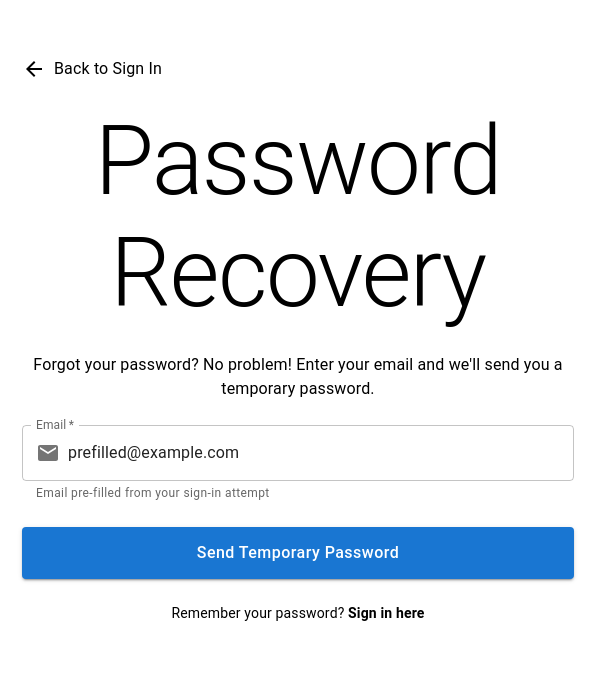
Test case: PasswordRecoveryPage › Form Submission › should submit form with pre-filled email
Click the button "Send Temporary Password" at (298, 554), box [22,528,574,580]
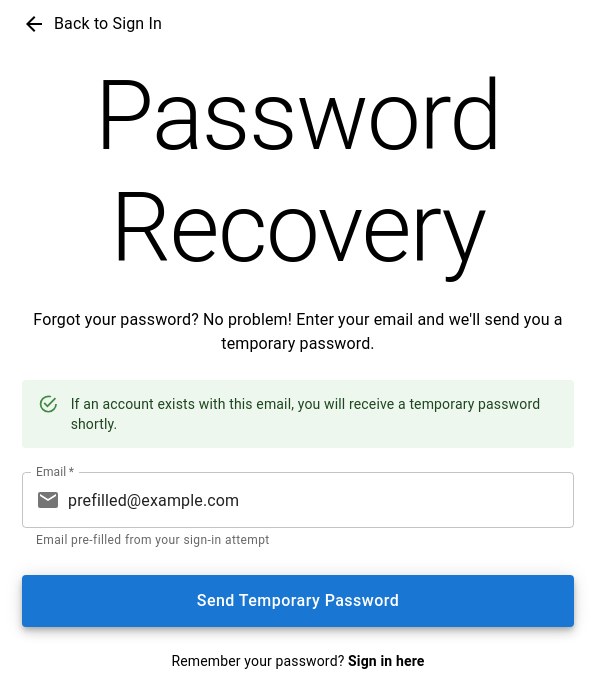
Expected: the field labelled "Email *" holds "prefilled@example.com", [68,472,574,528]
Expected: the text "If an account exists with this email" is shown, [71,396,540,432]
